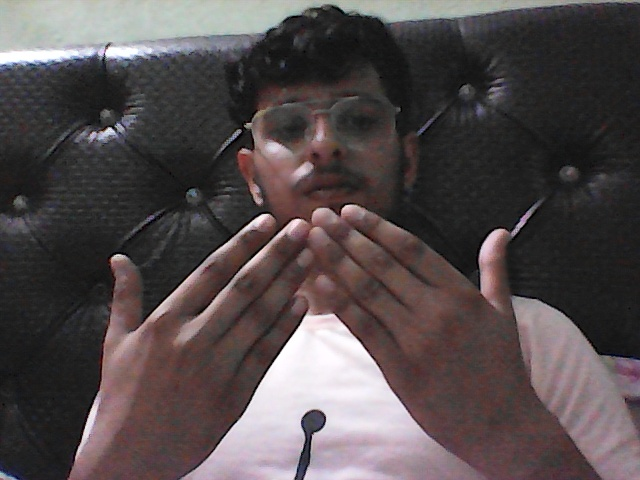thankyou: (49, 206, 549, 480)
